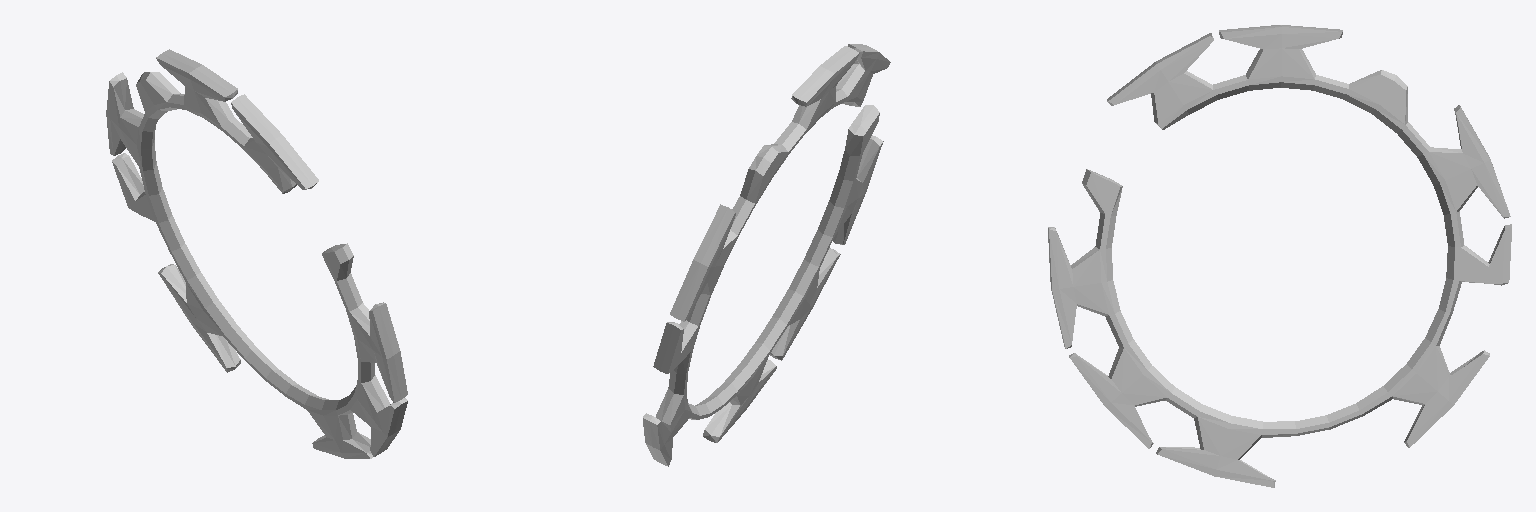
The model's file is brokendevice.obj.
The picture shows the model from 3 angles: view 1: azimuth 30°, elevation 25°; view 2: azimuth 150°, elevation 25°; view 3: azimuth 270°, elevation 25°; orthographic projection.
Visible parts, largest first — view 1: Circle_Circle.001; view 2: Circle_Circle.001; view 3: Circle_Circle.001.
Boxes of the visible parts, x1=… form: Circle_Circle.001: x1=106, y1=49, x2=407, y2=458; Circle_Circle.001: x1=643, y1=44, x2=890, y2=466; Circle_Circle.001: x1=1048, y1=25, x2=1511, y2=487.
Bounding box in the file's own units: 17.36 × 48.71 × 50.42.